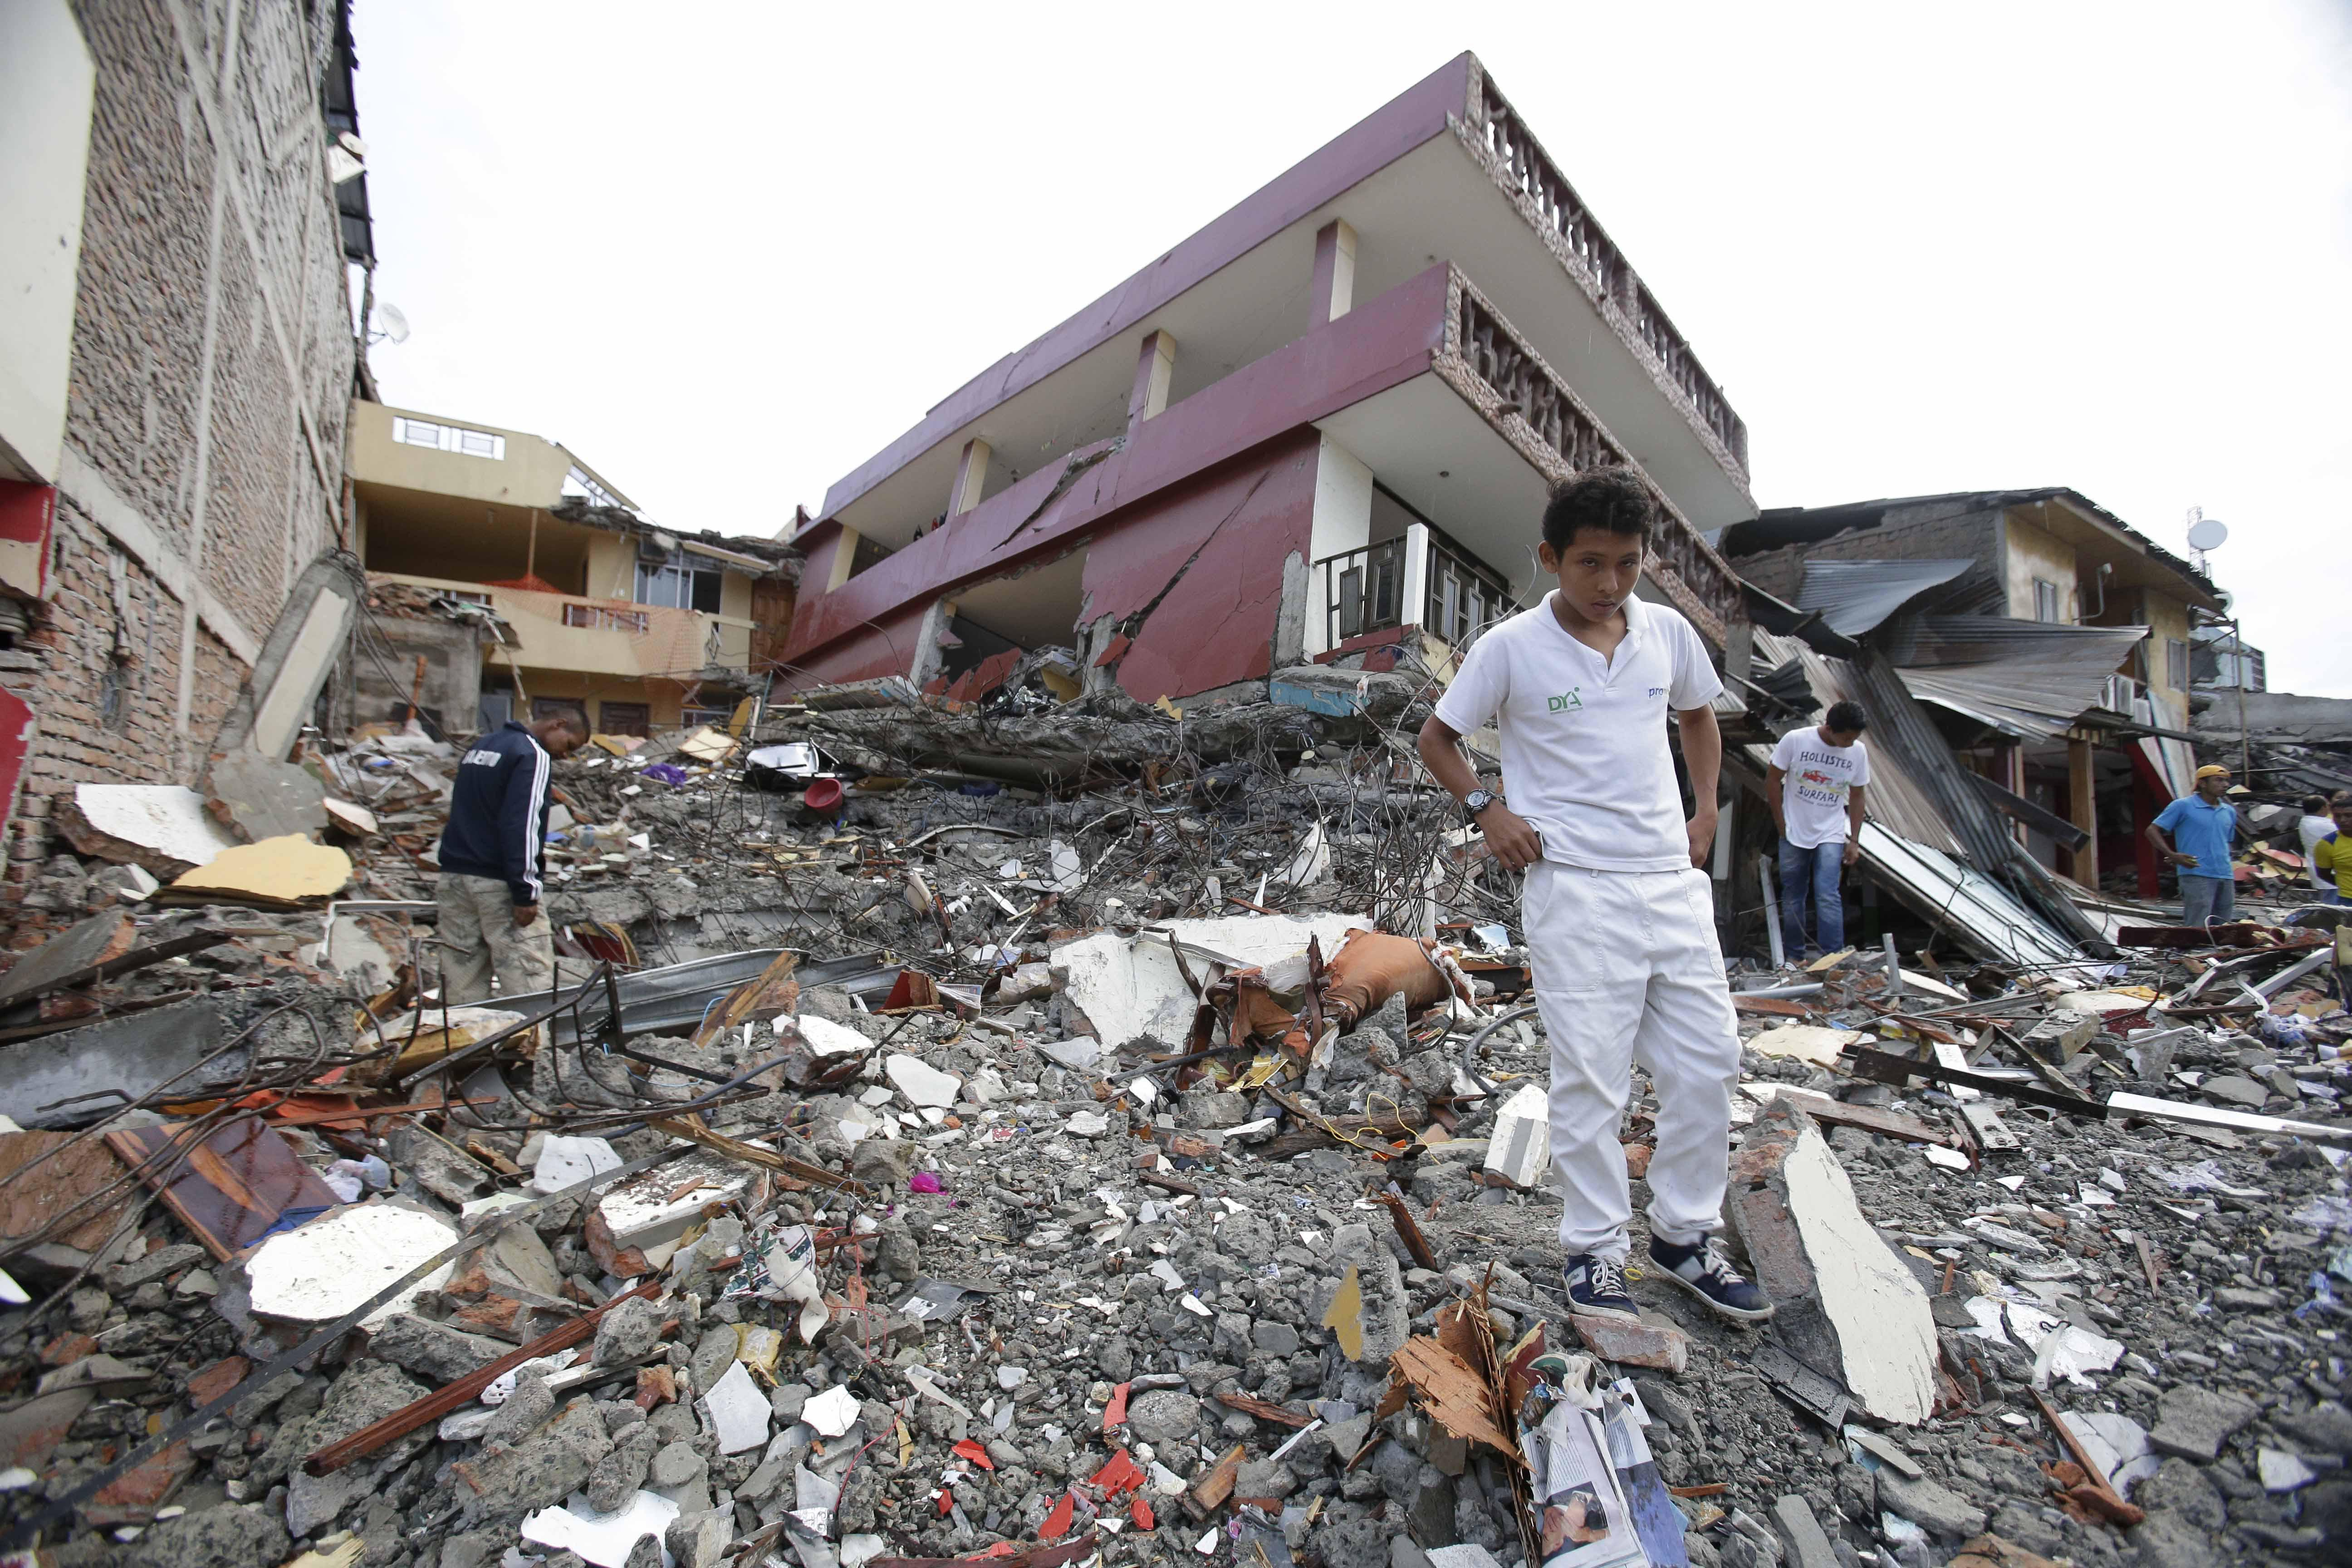major: (754, 38, 1811, 782)
